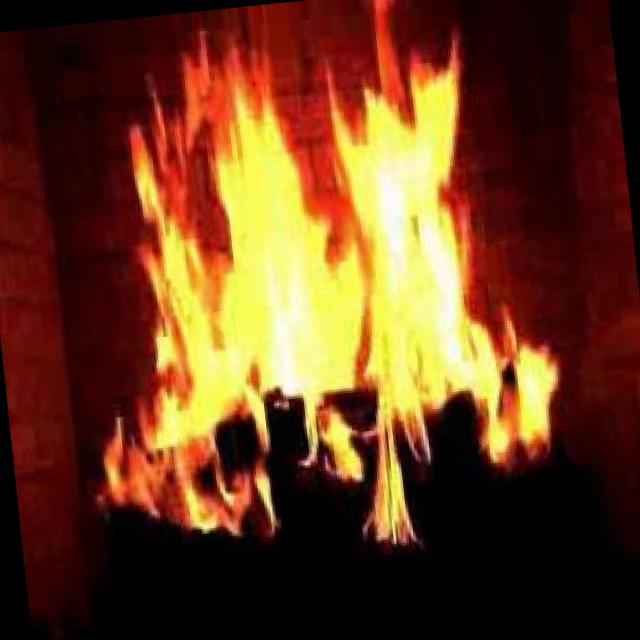Fire: (32, 0, 587, 594)
